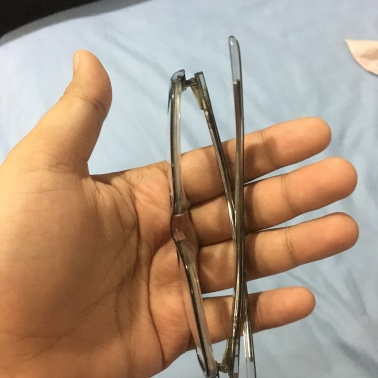glasses: (156, 44, 267, 378)
